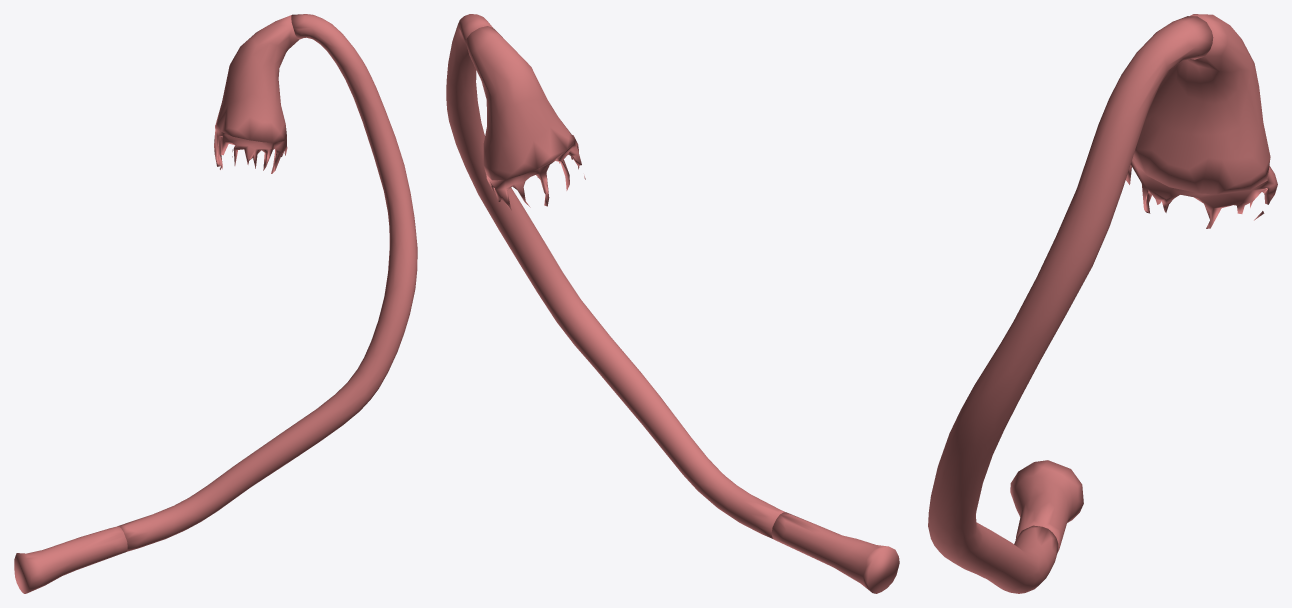
The model's file is 3d-vh-f-fallopian-tube-l_lod_20.glb.
The picture shows the model from 3 angles, left to right: view 1: azimuth 30°, elevation 25°; view 2: azimuth 150°, elevation 25°; view 3: azimuth 270°, elevation 25°; orthographic projection. The views are drawn at different scales.
Visible parts, largest first — view 1: VH_F_ampulla_of_uterine_tube_L, VH_F_uterine_tube_infundibulum_L, VH_F_isthmus_of_fallopian_tube_L, VH_F_fibria_of_uterine_tube_L; view 2: VH_F_ampulla_of_uterine_tube_L, VH_F_uterine_tube_infundibulum_L, VH_F_isthmus_of_fallopian_tube_L, VH_F_fibria_of_uterine_tube_L; view 3: VH_F_ampulla_of_uterine_tube_L, VH_F_uterine_tube_infundibulum_L, VH_F_isthmus_of_fallopian_tube_L, VH_F_fibria_of_uterine_tube_L.
Part boxes in pixels (x1=…): VH_F_ampulla_of_uterine_tube_L: x1=118, y1=14, x2=417, y2=551; VH_F_uterine_tube_infundibulum_L: x1=215, y1=15, x2=299, y2=142; VH_F_isthmus_of_fallopian_tube_L: x1=14, y1=526, x2=127, y2=593; VH_F_fibria_of_uterine_tube_L: x1=214, y1=125, x2=287, y2=173; VH_F_ampulla_of_uterine_tube_L: x1=446, y1=14, x2=785, y2=538; VH_F_uterine_tube_infundibulum_L: x1=465, y1=26, x2=574, y2=180; VH_F_isthmus_of_fallopian_tube_L: x1=771, y1=512, x2=899, y2=593; VH_F_fibria_of_uterine_tube_L: x1=486, y1=135, x2=585, y2=210; VH_F_ampulla_of_uterine_tube_L: x1=928, y1=16, x2=1213, y2=593; VH_F_uterine_tube_infundibulum_L: x1=1133, y1=14, x2=1270, y2=194; VH_F_isthmus_of_fallopian_tube_L: x1=1010, y1=460, x2=1083, y2=552; VH_F_fibria_of_uterine_tube_L: x1=1126, y1=157, x2=1277, y2=228.
Bounding box in the file's own units: 0.0386 × 0.0445 × 0.0186.
